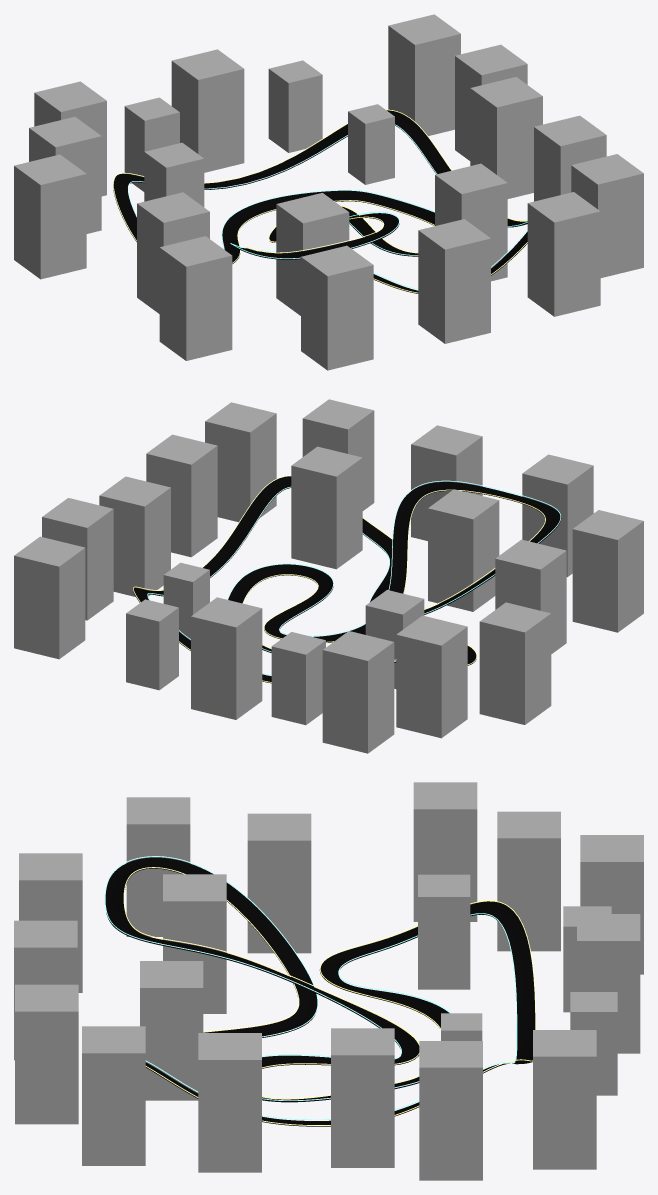
Rendered from trackhd.fbx.
3 renders of one model, top to bottom at view 1: azimuth 30°, elevation 25°; view 2: azimuth 150°, elevation 25°; view 3: azimuth 270°, elevation 25°, orthographic. The views are drawn at different scales.
Parts seen in each view (by area): view 1: Plane, Cube.017, Cube.014, Cube.010, Cube.015, Cube.016, Cube, Cube.002, Cube.005, Cube.018, Cube.008, Cube.006 (+11 smaller); view 2: Plane, Cube.011, Cube.010, Cube.006, Cube, Cube.012, Cube.014, Cube.002, Cube.008, Cube.005, Cube.018, Cube.007 (+11 smaller); view 3: Plane, Cube.017, Cube.002, Cube.003, Cube.005, Cube.007, Cube.018, Cube.009, Cube.012, Cube.006, Cube.010, Cube (+11 smaller).
Part boxes in pixels (<box>): Plane: <box>113,110,527,293</box>; Cube.017: <box>527,192,600,316</box>; Cube.014: <box>159,236,232,360</box>; Cube.010: <box>14,154,86,279</box>; Cube.015: <box>301,245,373,370</box>; Cube.016: <box>418,219,490,343</box>; Cube: <box>171,49,244,172</box>; Cube.002: <box>388,14,460,135</box>; Cube.005: <box>470,77,542,198</box>; Cube.018: <box>571,154,643,277</box>; Cube.008: <box>276,193,349,315</box>; Cube.006: <box>435,163,507,281</box>; Plane: <box>133,476,561,683</box>; Cube.011: <box>322,631,394,753</box>; Cube.010: <box>479,602,551,724</box>; Cube.006: <box>291,446,362,569</box>; Cube: <box>191,597,262,719</box>; Cube.012: <box>396,615,467,738</box>; Cube.014: <box>572,510,643,632</box>; Cube.002: <box>14,536,85,659</box>; Cube.008: <box>428,489,499,611</box>; Cube.005: <box>99,476,170,596</box>; Cube.018: <box>205,402,276,522</box>; Cube.007: <box>146,434,217,557</box>; Plane: <box>105,857,535,1126</box>; Cube.017: <box>15,984,78,1124</box>; Cube.002: <box>533,1030,596,1169</box>; Cube.003: <box>419,1041,482,1180</box>; Cube.005: <box>331,1028,394,1167</box>; Cube.007: <box>198,1033,261,1172</box>; Cube.018: <box>82,1026,145,1165</box>; Cube.009: <box>247,813,311,953</box>; Cube.012: <box>497,811,560,951</box>; Cube.006: <box>140,961,203,1100</box>; Cube.010: <box>413,782,477,921</box>; Cube: <box>577,914,640,1053</box>.
Bounding box in the file's own units: 655 × 122 × 611.
